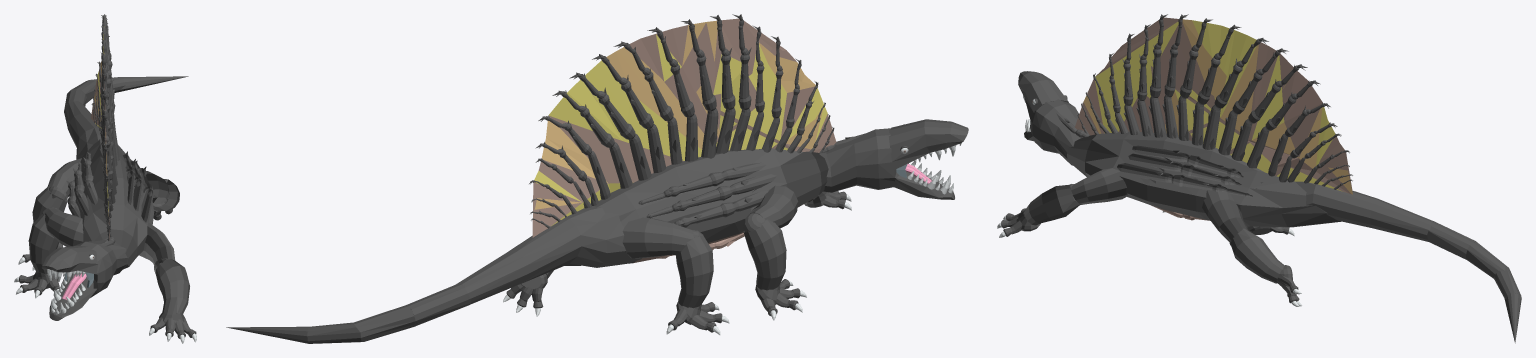
Rendered from dimetrodon.glb.
The picture shows the model from 3 angles, left to right: view 1: azimuth 30°, elevation 25°; view 2: azimuth 150°, elevation 25°; view 3: azimuth 270°, elevation 25°; orthographic projection. The views are drawn at different scales.
Visible parts, largest first — view 1: group865701839, group1236733959, group1510379380, group660436678, group1518454184, group943141992, group1774306891, group1832439925, group735201824, group341279888, group940515321, group1980282954 (+24 smaller); view 2: group1975238049, group865701839, group2809979, group1510379380, group660436678, group1518454184, group341279888, group940515321, group1774306891, group511023898, group291596219, group578534057 (+14 smaller); view 3: group1975238049, group865701839, group2809979, group1510379380, group660436678, group1845778876, group1832439925, group1236733959, group1959398977, group1518454184, group1679083128, group271335758 (+15 smaller).
Boxes of the visible parts, x1,y1,x2,y2 form: group865701839: [74, 139, 154, 269]; group1236733959: [155, 259, 189, 314]; group1510379380: [64, 101, 101, 159]; group660436678: [64, 237, 127, 292]; group1518454184: [41, 245, 98, 274]; group943141992: [45, 208, 83, 246]; group1774306891: [28, 214, 58, 274]; group1832439925: [139, 222, 175, 265]; group735201824: [49, 276, 100, 320]; group341279888: [47, 158, 81, 197]; group940515321: [32, 187, 67, 222]; group1980282954: [119, 76, 188, 91]; group1975238049: [532, 22, 721, 237]; group865701839: [565, 148, 828, 265]; group2809979: [706, 18, 836, 152]; group1510379380: [455, 206, 641, 304]; group660436678: [819, 128, 899, 192]; group1518454184: [889, 119, 968, 169]; group341279888: [622, 217, 694, 258]; group940515321: [675, 235, 713, 308]; group1774306891: [744, 219, 786, 290]; group511023898: [406, 284, 471, 325]; group291596219: [646, 174, 776, 218]; group578534057: [350, 305, 418, 341]; group1975238049: [1165, 20, 1352, 194]; group865701839: [1067, 131, 1341, 227]; group2809979: [1075, 17, 1226, 135]; group1510379380: [1265, 181, 1431, 242]; group660436678: [1030, 99, 1082, 165]; group1845778876: [1230, 228, 1284, 283]; group1832439925: [1071, 168, 1128, 204]; group1236733959: [1023, 184, 1080, 225]; group1959398977: [1202, 186, 1248, 242]; group1518454184: [1018, 71, 1068, 118]; group1679083128: [1117, 163, 1252, 197]; group271335758: [1128, 153, 1257, 189].
Bounding box in the file's own units: 1.51 × 0.8897 × 1.76.
